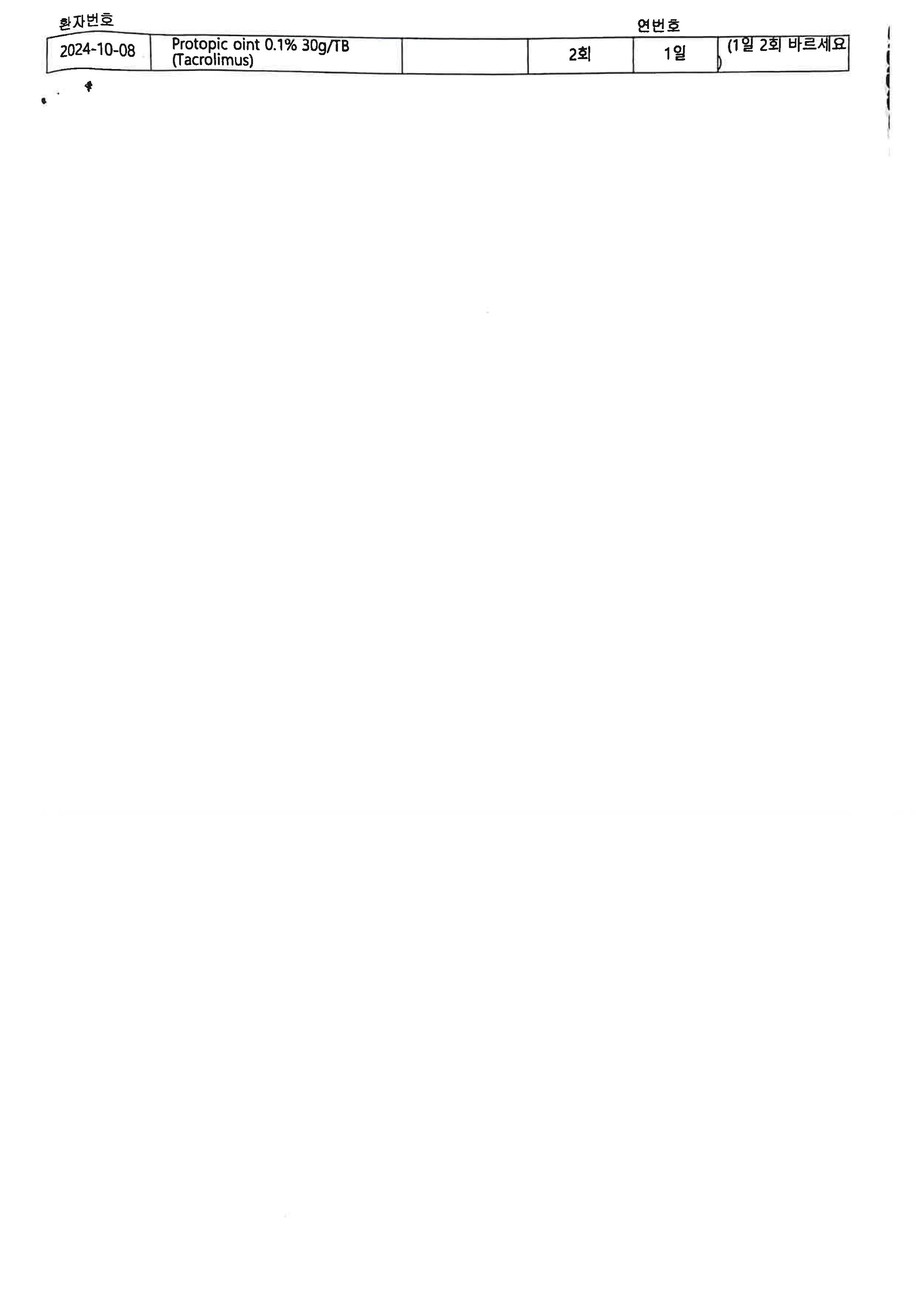row: (44, 33, 848, 74)
